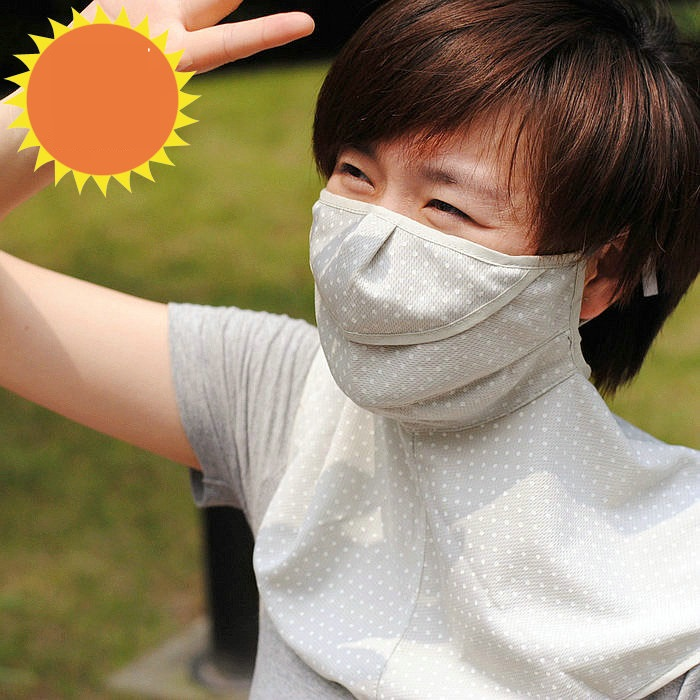face_mask: (311, 55, 532, 403)
